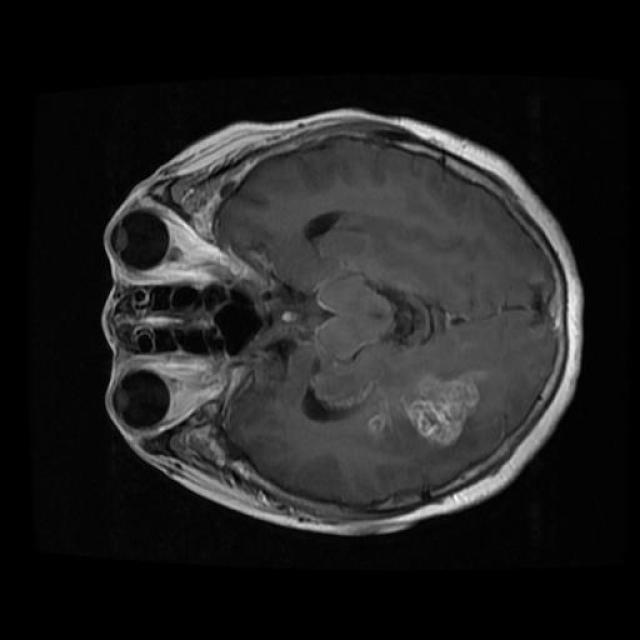Glioma: (404, 378, 478, 445)
